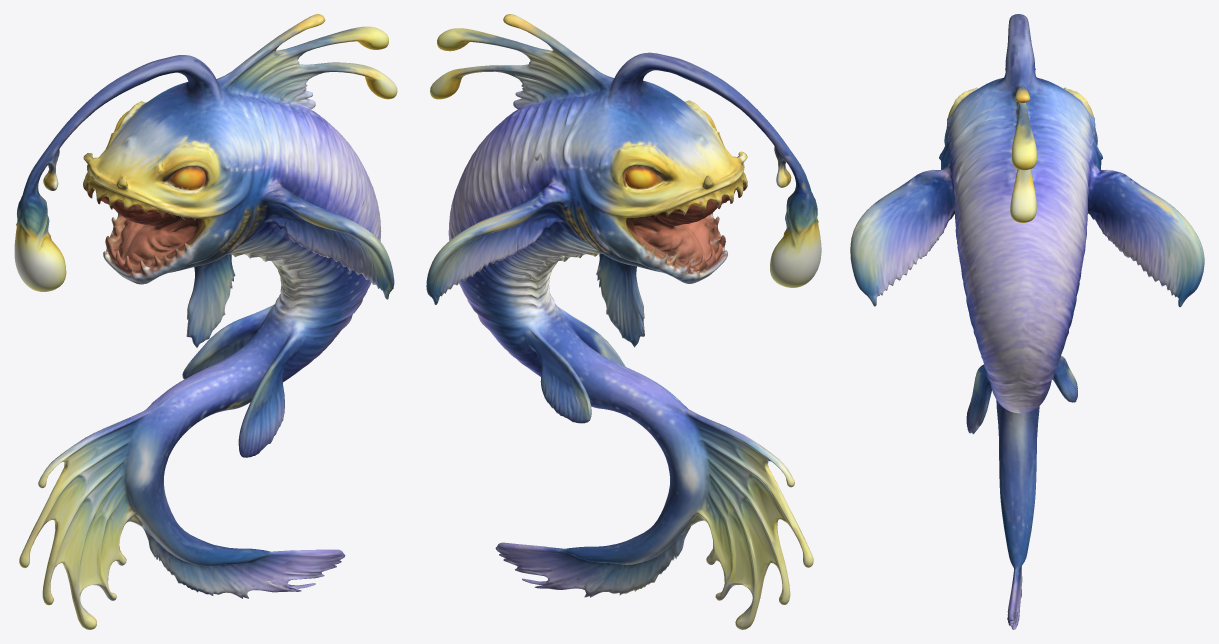
The model's file is adiknya angler.glb.
The picture shows the model from 3 angles, left to right: view 1: azimuth 30°, elevation 25°; view 2: azimuth 150°, elevation 25°; view 3: azimuth 270°, elevation 25°; orthographic projection. The views are drawn at different scales.
Parts seen in each view (by area): view 1: material; view 2: material; view 3: material.
Part boxes in pixels (x1,y1,x2,y2): material: (14,14,397,629); material: (426,14,821,629); material: (850,14,1204,629).
Size of the model in its own units: 0.763 by 1.09 by 0.6447.
Materials: 1 (1 with a texture image).
